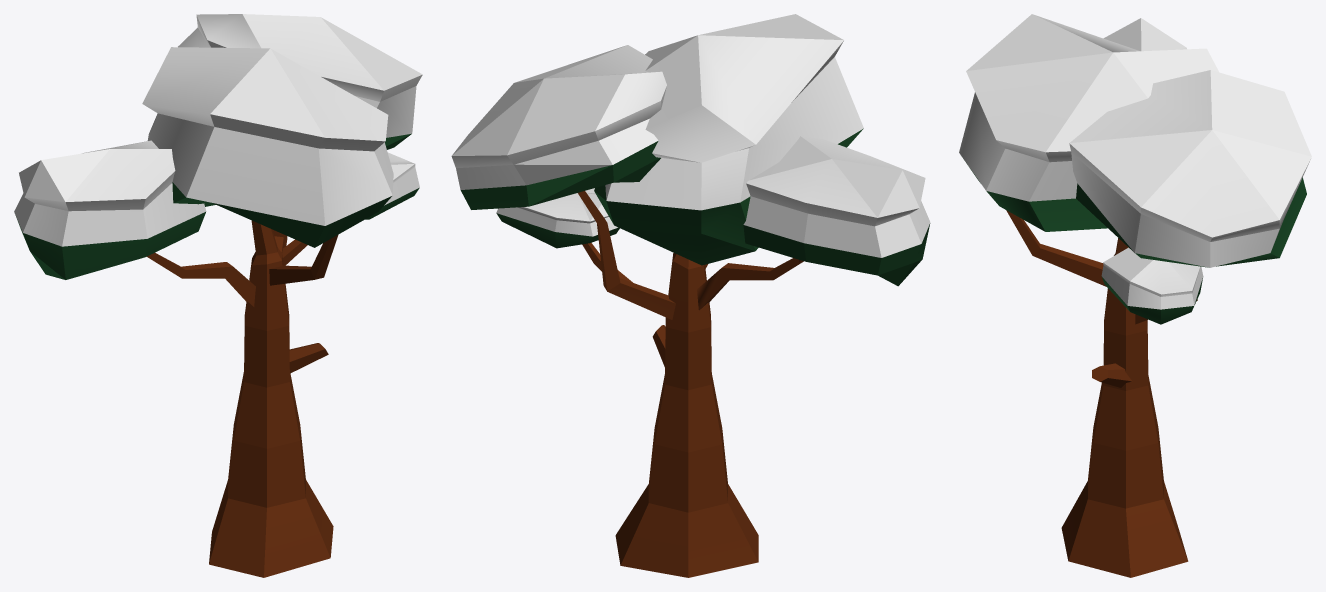
File: Winter_005.fbx
3 views of the same model, side by side, from view 1: azimuth 30°, elevation 25°; view 2: azimuth 150°, elevation 25°; view 3: azimuth 270°, elevation 25° (orthographic). The views are drawn at different scales.
Visible parts, largest first — view 1: Winter_005; view 2: Winter_005; view 3: Winter_005.
Boxes of the visible parts, <box> form: Winter_005: <box>14,14,422,577</box>; Winter_005: <box>451,14,930,577</box>; Winter_005: <box>959,14,1311,577</box>.
Bounding box in the file's own units: 4.6 × 5.4 × 3.52.
